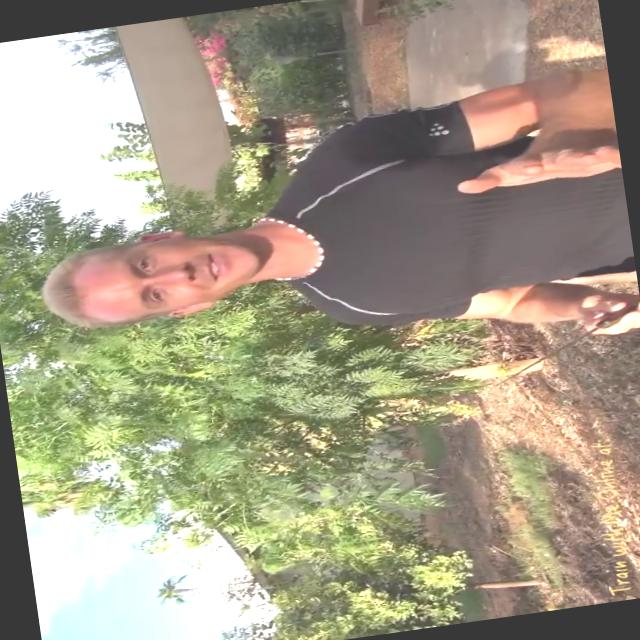knife: (464, 306, 620, 398)
